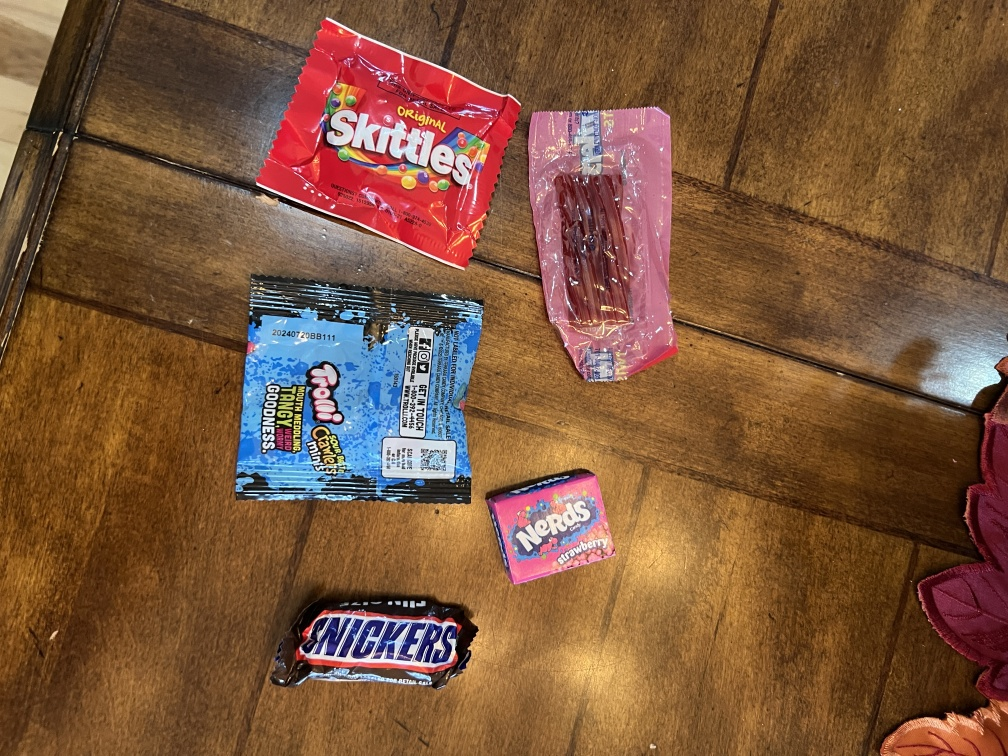gummy_worms: (224, 276, 477, 508)
nerds: (478, 474, 648, 587)
skittles: (240, 13, 525, 270)
snickers: (264, 589, 499, 712)
twizzlers: (531, 98, 713, 391)
